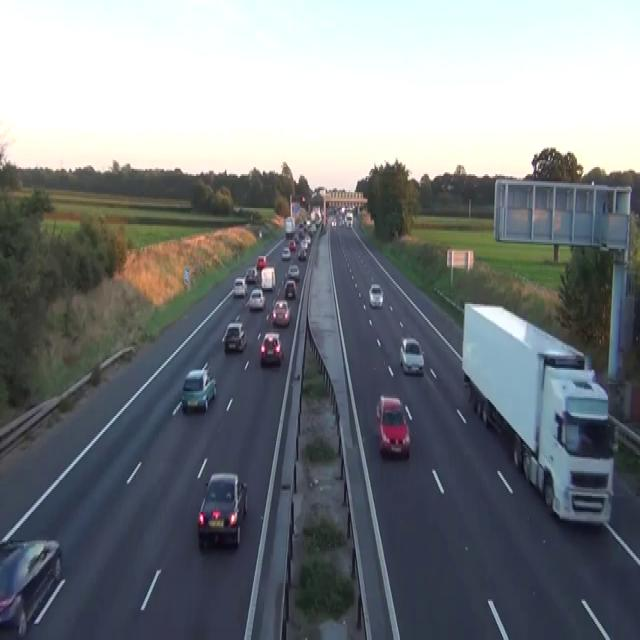Car: (0, 537, 62, 636), (197, 471, 247, 549), (376, 394, 410, 458), (180, 362, 216, 412), (399, 336, 424, 375), (222, 322, 247, 352), (260, 330, 282, 364), (271, 299, 290, 325), (246, 288, 265, 309), (368, 282, 383, 308), (233, 277, 247, 297), (284, 277, 296, 299), (287, 263, 299, 281), (245, 266, 257, 282), (256, 254, 266, 268), (281, 246, 290, 260), (297, 247, 306, 260), (288, 238, 295, 251), (337, 215, 344, 226), (308, 224, 315, 235), (321, 222, 327, 233), (446, 182, 454, 190), (331, 217, 336, 227), (345, 217, 350, 227), (258, 228, 262, 238)
Truck: (461, 300, 614, 526), (260, 266, 275, 290), (284, 215, 295, 238), (345, 212, 353, 228)
